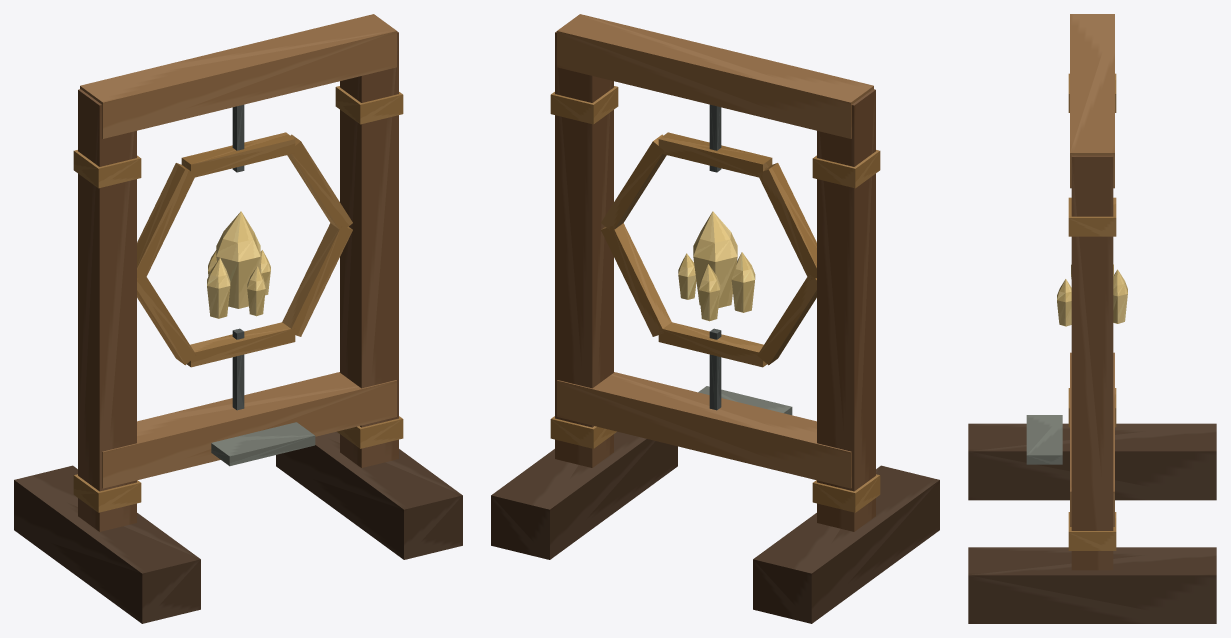
File: resonance-frame.obj
The picture shows the model from 3 angles, left to right: view 1: azimuth 30°, elevation 25°; view 2: azimuth 150°, elevation 25°; view 3: azimuth 270°, elevation 25°; orthographic projection. The views are drawn at different scales.
Bounding box in the file's own units: 1.2 × 1.72 × 0.83.
Materials: 1 (1 with a texture image).
